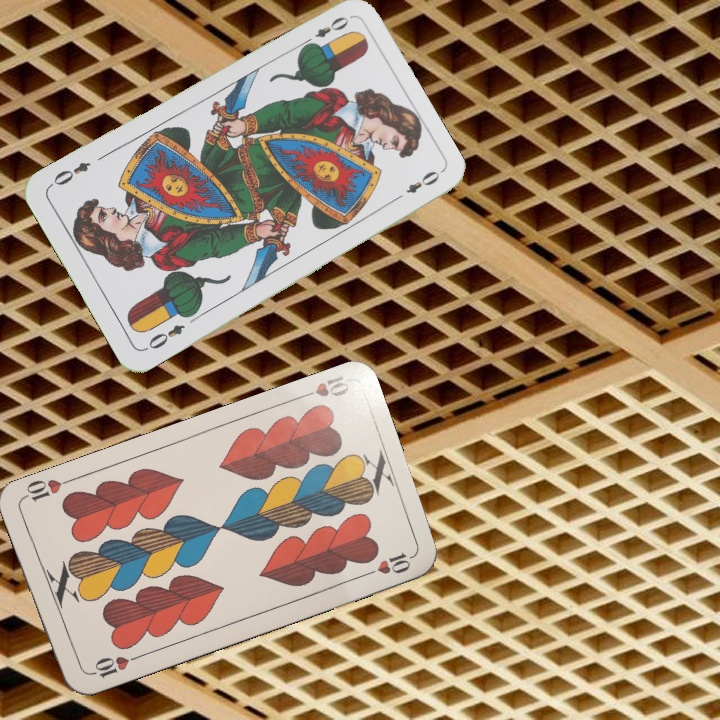EO: (298, 12, 352, 50), (140, 320, 188, 354)
H10: (294, 371, 352, 402), (84, 651, 141, 681)
